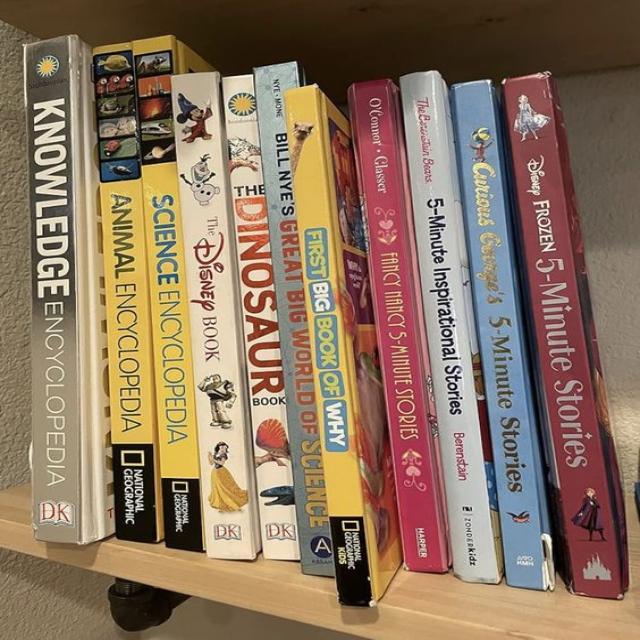book: (502, 75, 617, 595), (398, 69, 499, 584), (454, 80, 552, 592), (282, 84, 376, 610), (347, 77, 444, 571), (256, 61, 334, 577), (171, 71, 253, 560), (132, 35, 207, 552), (222, 75, 300, 561), (92, 43, 159, 542), (25, 35, 84, 541)
